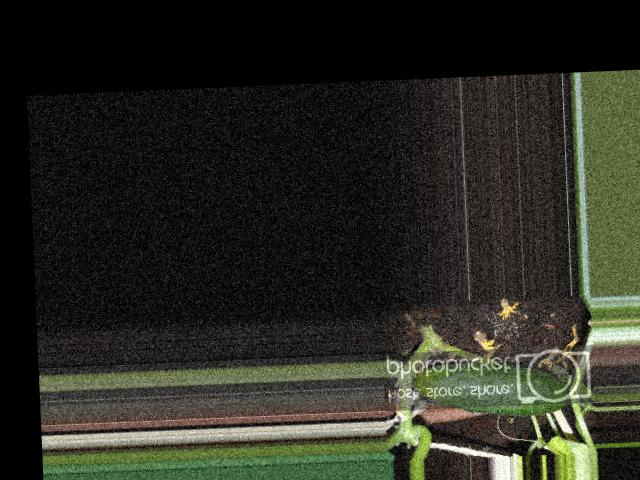cucumber: (414, 357, 568, 420)
